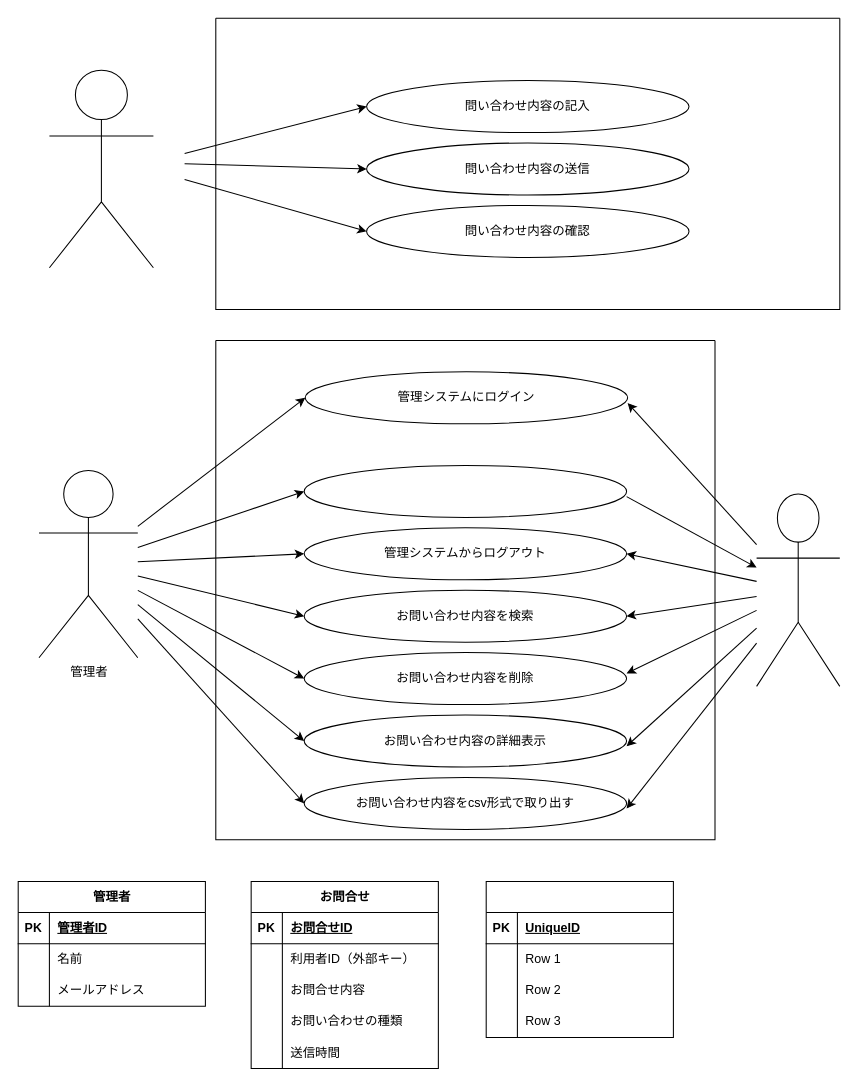
Image size: 858x1087. Some labels were removed from this diagram. The box of each missing label's shape, as (x1, y1, x2, y2) in pixels:
Table: (485, 880, 673, 1037)
利用者: (48, 69, 153, 268)
問い合わせ管理システム: (215, 340, 715, 840)
問い合わせ送信システム: (215, 17, 840, 309)
新規ユーザーの作成・登録: (303, 464, 627, 517)
新規管理者: (756, 493, 840, 686)
